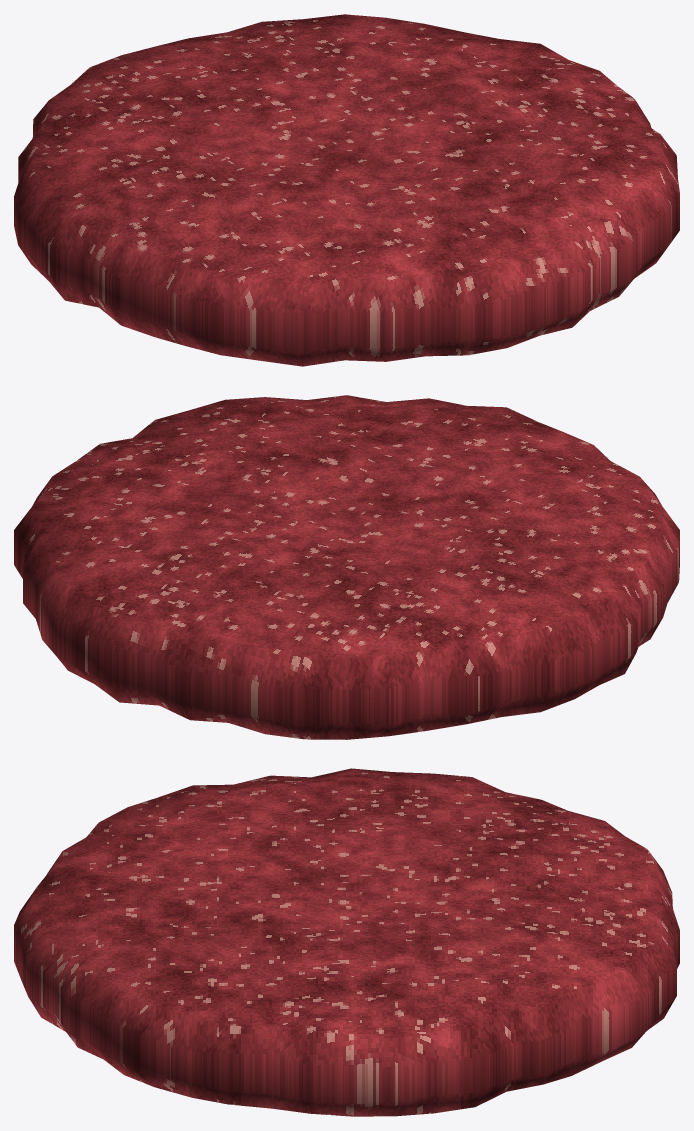
Rendered from burger_patty_raw.glb.
3 views of the same model, one above another, from view 1: azimuth 30°, elevation 25°; view 2: azimuth 150°, elevation 25°; view 3: azimuth 270°, elevation 25° (orthographic).
Visible parts, largest first — view 1: BurgerPatty_raw; view 2: BurgerPatty_raw; view 3: BurgerPatty_raw.
Part boxes in pixels (x1=…): BurgerPatty_raw: x1=14, y1=14, x2=679, y2=366; BurgerPatty_raw: x1=14, y1=395, x2=679, y2=739; BurgerPatty_raw: x1=14, y1=768, x2=679, y2=1116.
Size of the model in its own units: 0.1257 by 0.0222 by 0.1249.
1 material, 1 textured.
